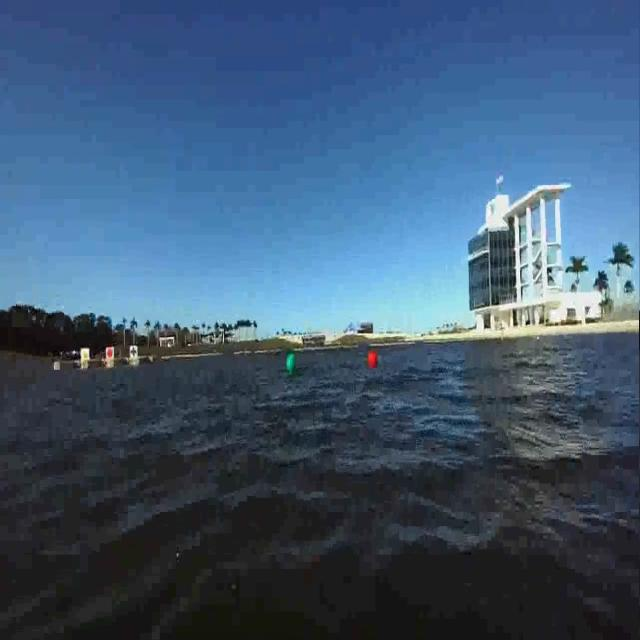green-buoy: (287, 354, 296, 374)
red-column-buoy: (367, 351, 377, 369)
